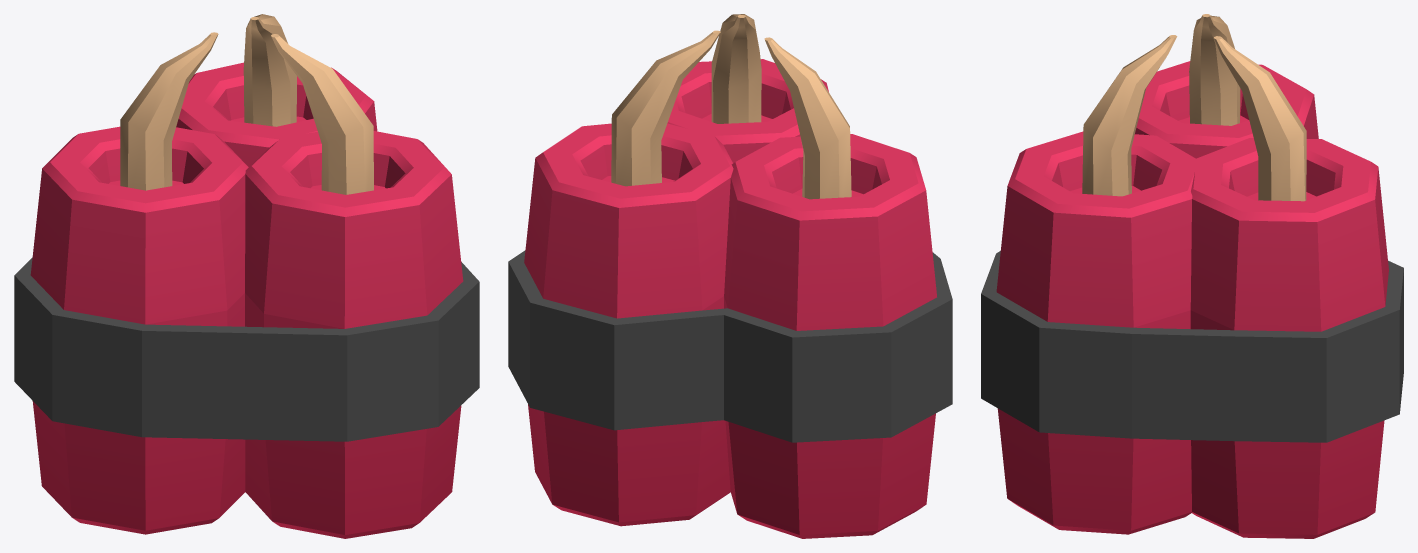
Rendered from DynamitePack.fbx.
3 views of the same model, side by side, from view 1: azimuth 30°, elevation 25°; view 2: azimuth 150°, elevation 25°; view 3: azimuth 270°, elevation 25° (orthographic).
Parts seen in each view (by area): view 1: DynamitePack; view 2: DynamitePack; view 3: DynamitePack.
Boxes of the visible parts, x1,y1,x2,y2 form: DynamitePack: (14, 14, 479, 538); DynamitePack: (508, 14, 952, 538); DynamitePack: (981, 14, 1403, 538).
Size of the model in its own units: 51.11 by 58.31 by 50.61.
Materials: 1 (1 with a texture image).
